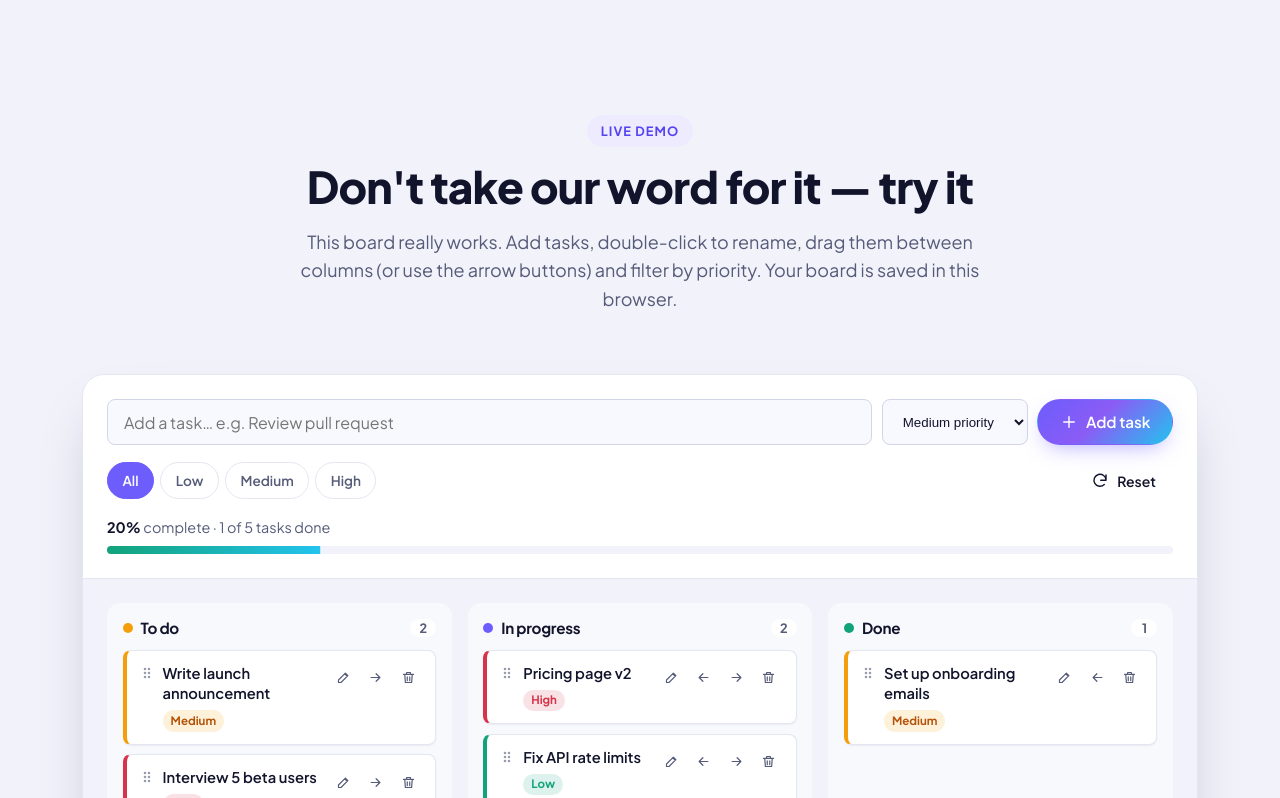
Test: BoardDemo › shows status changes in the activity feed
Step 1. Click the button named "Move \"Write launch announcement\" to In progress" → (376, 678), box [361,663,391,693]
(page scrolled)
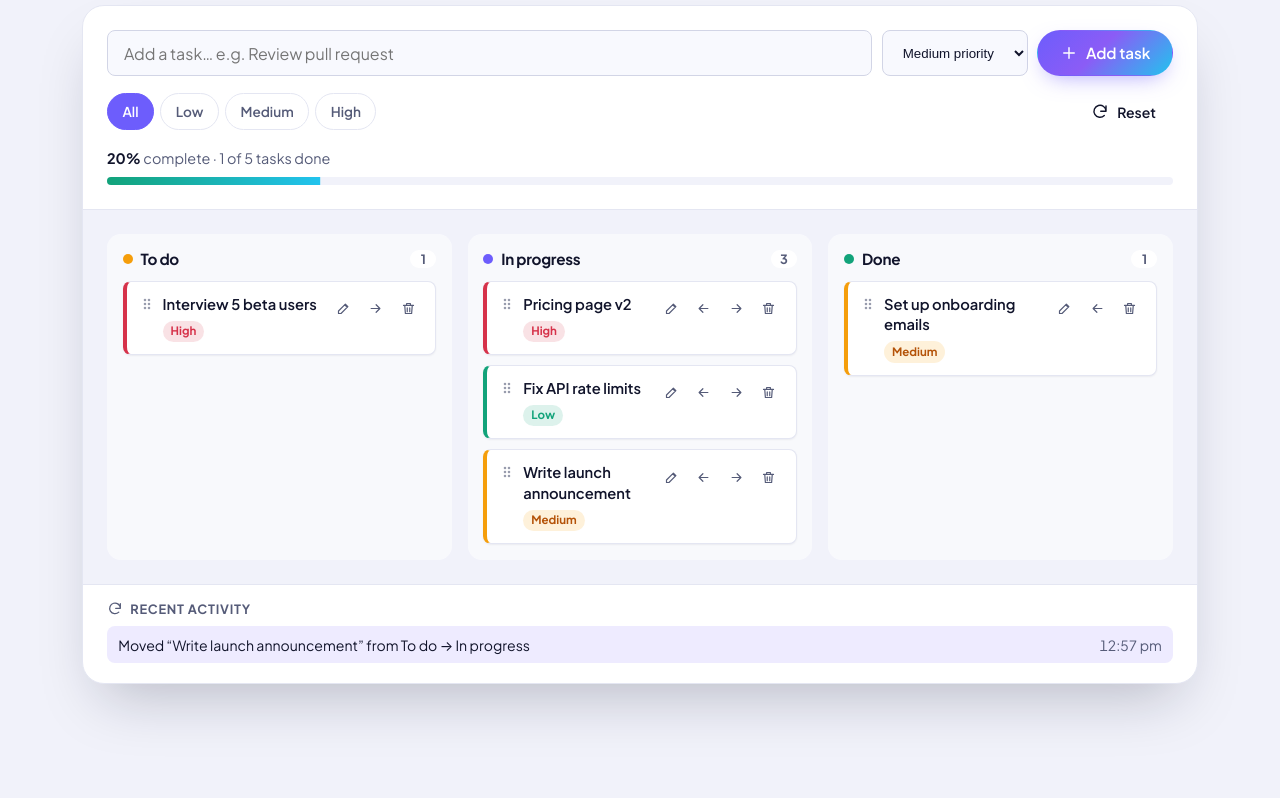
Expected: the text "Moved “Write launch announcement” from To do → In progress" is shown, [118,634,530,656]
